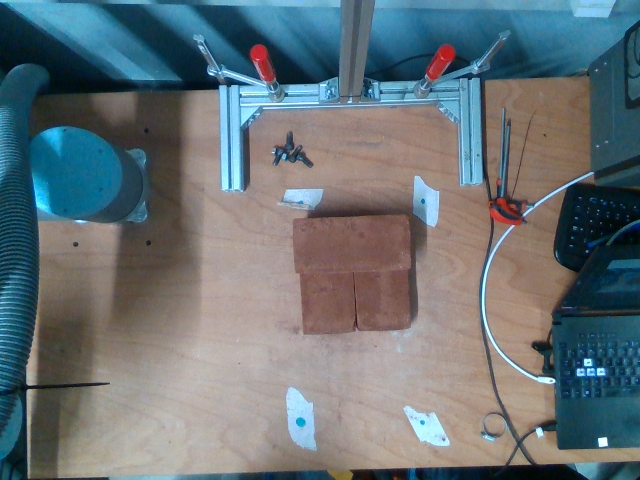brick: (294, 216, 410, 271)
